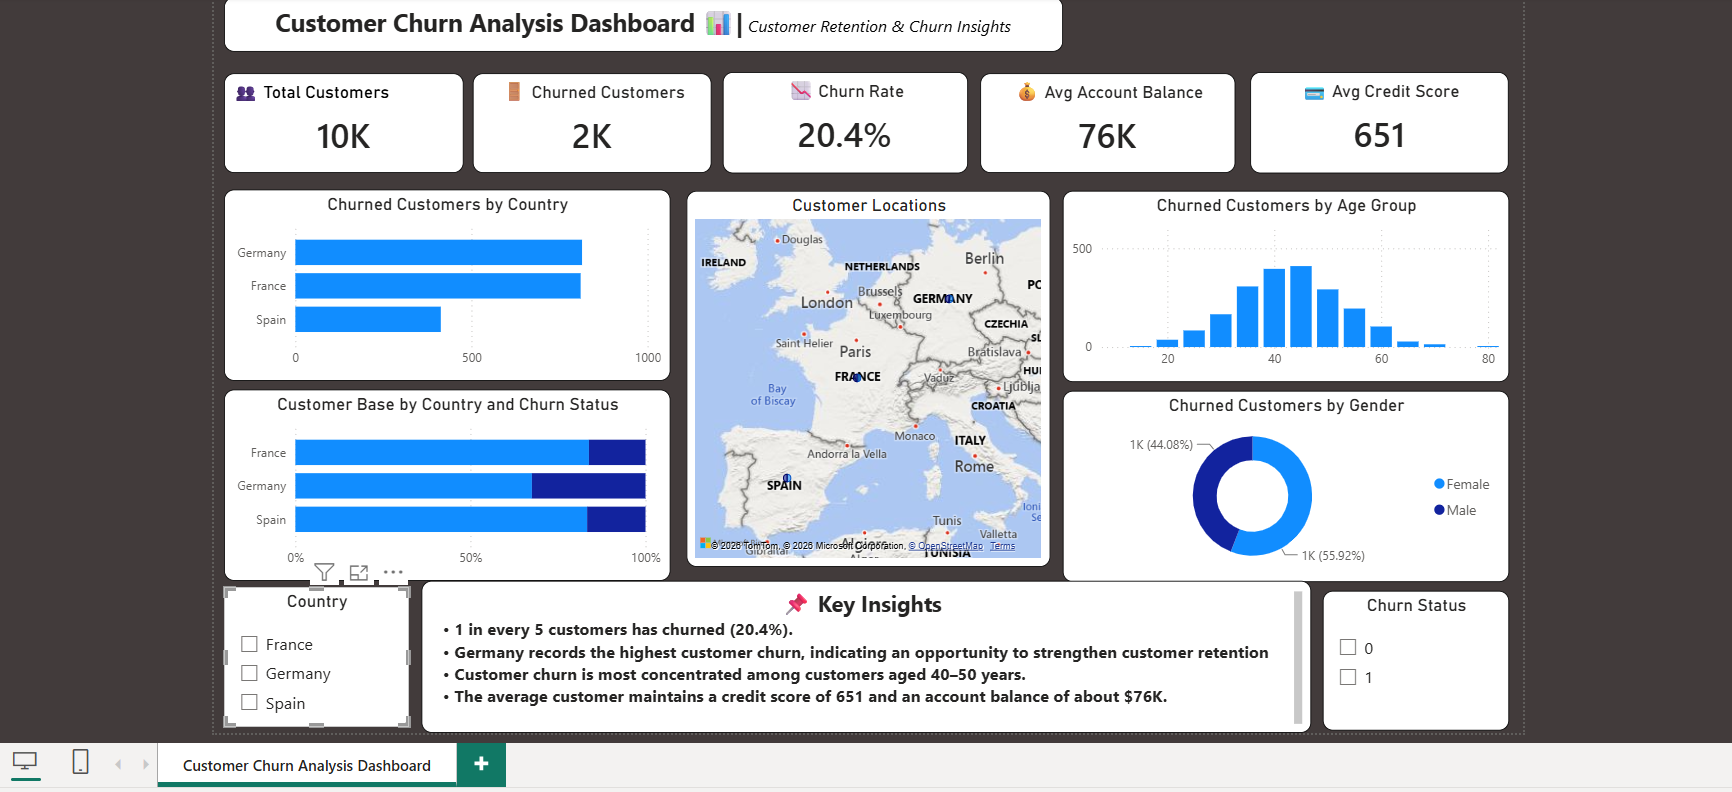

The page's visual inventory and layout, read from the dashboard file:
{"tool":"powerbi","page":{"name":"Customer Churn Analysis Dashboard","canvas":[1280,720],"ordinal":0},"visuals":[{"type":"textbox","box":[9.8,0,820.5,53.8],"z":0},{"type":"cardVisual","title":"👥 Total Customers","fields":{"Data":["Customer Churn.Total Customers"]},"box":[9.8,74.6,234.8,97.8],"z":1000},{"type":"cardVisual","title":"🚪 Churned Customers","fields":{"Data":["Customer Churn.Churned Customers"]},"box":[253.1,74.6,233.6,97.8],"z":2000},{"type":"cardVisual","title":"📉 Churn Rate","fields":{"Data":["Customer Churn.Churn Rate"]},"box":[497.7,73.4,239.7,99],"z":3000},{"type":"cardVisual","title":"💰 Avg Account Balance","fields":{"Data":["Customer Churn.Average Account Balance"]},"box":[749.6,74.6,249.5,97.8],"z":4000},{"type":"clusteredBarChart","fields":{"Category":["Customer Churn.Country"],"Y":["Customer Churn.Churned Customers"]},"box":[9.8,188.3,436.6,187.1],"z":5000},{"type":"donutChart","fields":{"Category":["Customer Churn.Gender"],"Y":["Customer Churn.Churned Customers"]},"box":[830.3,385.2,436.6,187.1],"z":6000},{"type":"columnChart","title":"Churned Customers by Age Group","fields":{"Y":["Customer Churn.Churned Customers"],"Category":["Customer Churn.Age (bins)"]},"box":[830.3,189.5,436.6,187.1],"z":7000},{"type":"hundredPercentStackedBarChart","title":"Customer Base by Country and Churn Status","fields":{"Category":["Customer Churn.Country"],"Y":["Customer Churn.Total Customers"],"Series":["Customer Churn.Churn Status"]},"box":[9.8,384,436.6,187.1],"z":8000},{"type":"slicer","title":"Country","fields":{"Values":["Customer Churn.Country"]},"box":[9.8,577.2,181,137],"z":9000},{"type":"map","title":"Customer Locations","fields":{"Category":["Customer Churn.Country"],"Series":["Customer Churn.Churn Status"]},"box":[462.2,189.5,355.8,368.1],"z":10000},{"type":"cardVisual","title":"💳 Avg Credit Score","fields":{"Data":["Customer Churn.Average Credit Score"]},"box":[1013.7,73.4,253.1,99],"z":11000},{"type":"textbox","box":[203,571.1,870.7,149.2],"z":12000},{"type":"slicer","title":"Churn Status","fields":{"Values":["Customer Churn.Churn Status"]},"box":[1084.7,580.8,182.2,137],"z":13000}]}

Visuals, with their boxes on the page's 1280x720 design canvas (x1, y1, x2, y2). These are canvas units, not pixel positions in the 1732x792 screenshot, which may show the page scaled, cropped or inside an application window:
textbox: bbox=(10, 0, 830, 54)
"👥 Total Customers" cardVisual: bbox=(10, 75, 245, 172)
"🚪 Churned Customers" cardVisual: bbox=(253, 75, 487, 172)
"📉 Churn Rate" cardVisual: bbox=(498, 73, 737, 172)
"💰 Avg Account Balance" cardVisual: bbox=(750, 75, 999, 172)
clusteredBarChart - Customer Churn.Country x Customer Churn.Churned Customers: bbox=(10, 188, 446, 375)
donutChart - Customer Churn.Gender x Customer Churn.Churned Customers: bbox=(830, 385, 1267, 572)
"Churned Customers by Age Group" columnChart: bbox=(830, 190, 1267, 377)
"Customer Base by Country and Churn Status" hundredPercentStackedBarChart: bbox=(10, 384, 446, 571)
"Country" slicer: bbox=(10, 577, 191, 714)
"Customer Locations" map: bbox=(462, 190, 818, 558)
"💳 Avg Credit Score" cardVisual: bbox=(1014, 73, 1267, 172)
textbox: bbox=(203, 571, 1074, 720)
"Churn Status" slicer: bbox=(1085, 581, 1267, 718)
